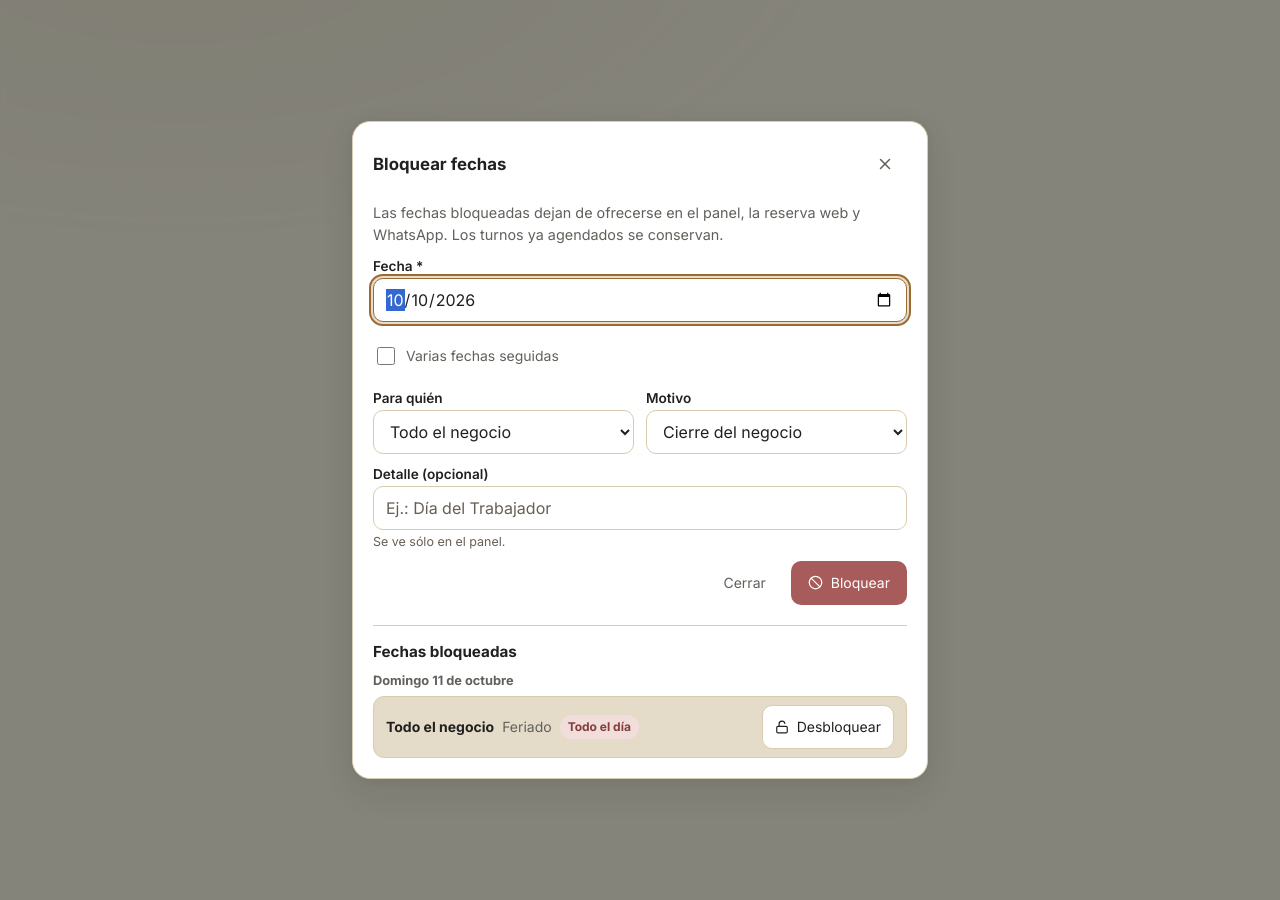
it: BloqueosModal › bloquea un rango y no duplica las fechas ya bloqueadas
The image size is (1280, 900).
Click the checkbox labelled "Varias fechas seguidas".
click(386, 356)  # box [377, 347, 395, 365]
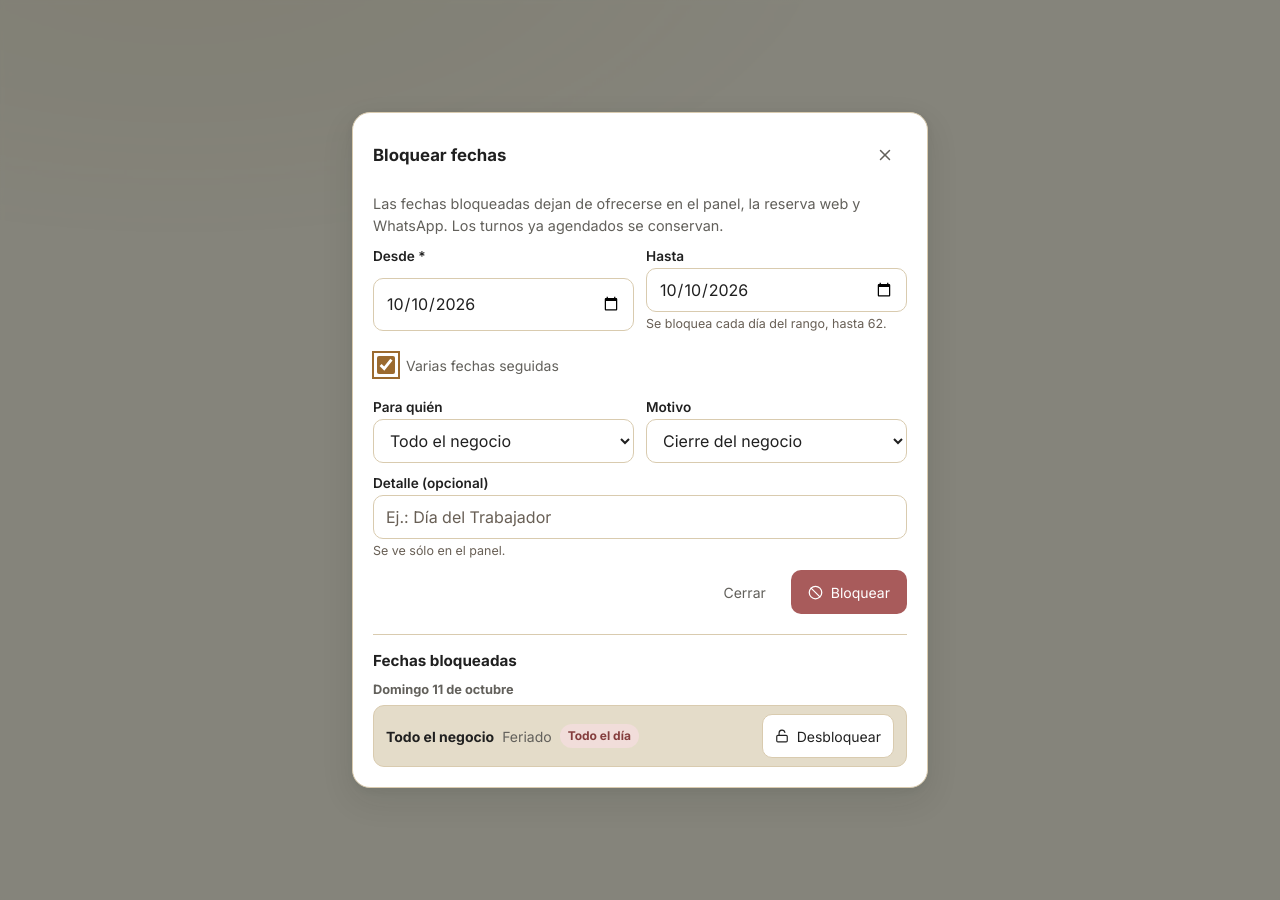
Type "2026-10-12" into the date field labelled "Hasta".
click(776, 290); type("2026-10-12")  # box [646, 268, 907, 312]
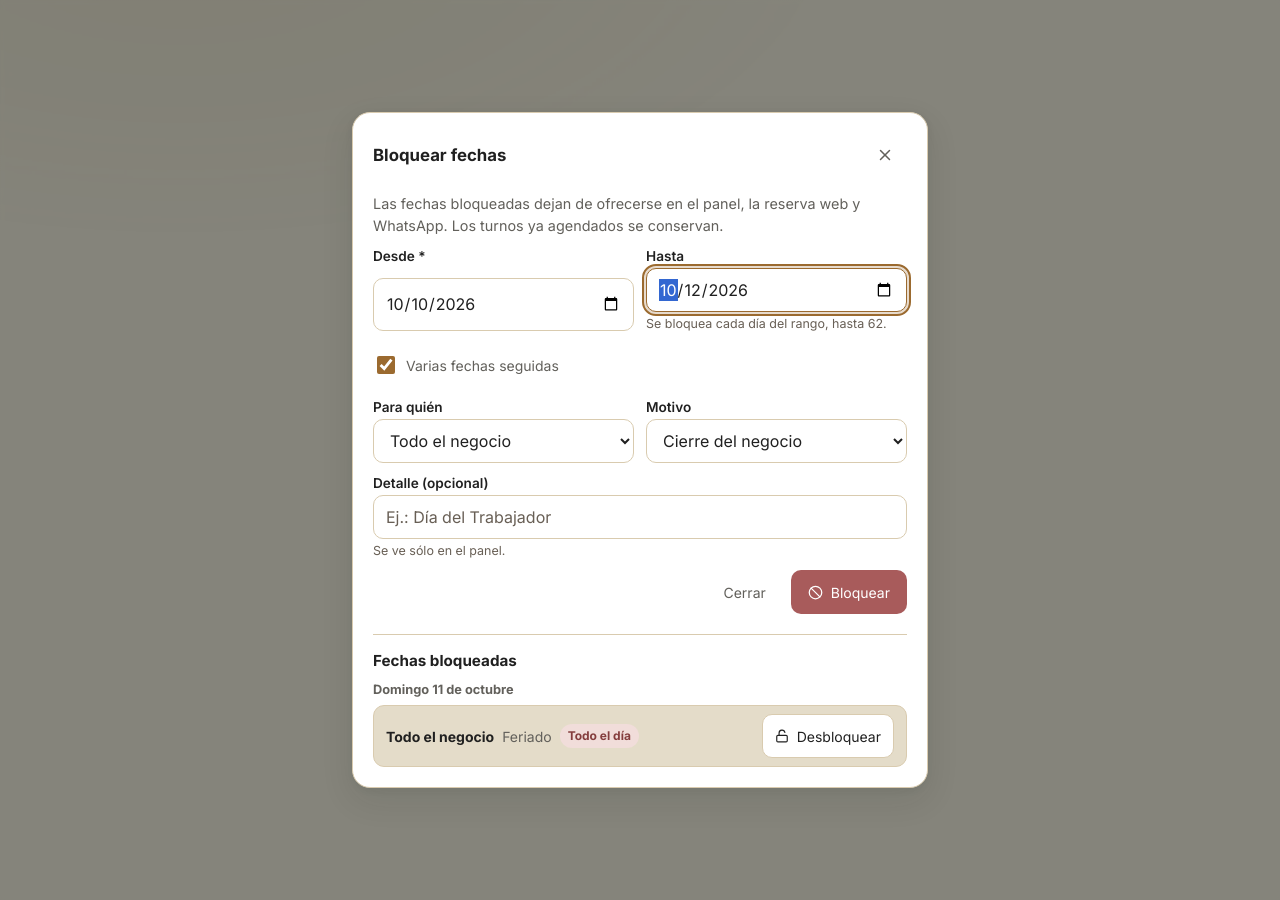
Click the button "Bloquear".
click(849, 592)  # box [791, 570, 907, 614]
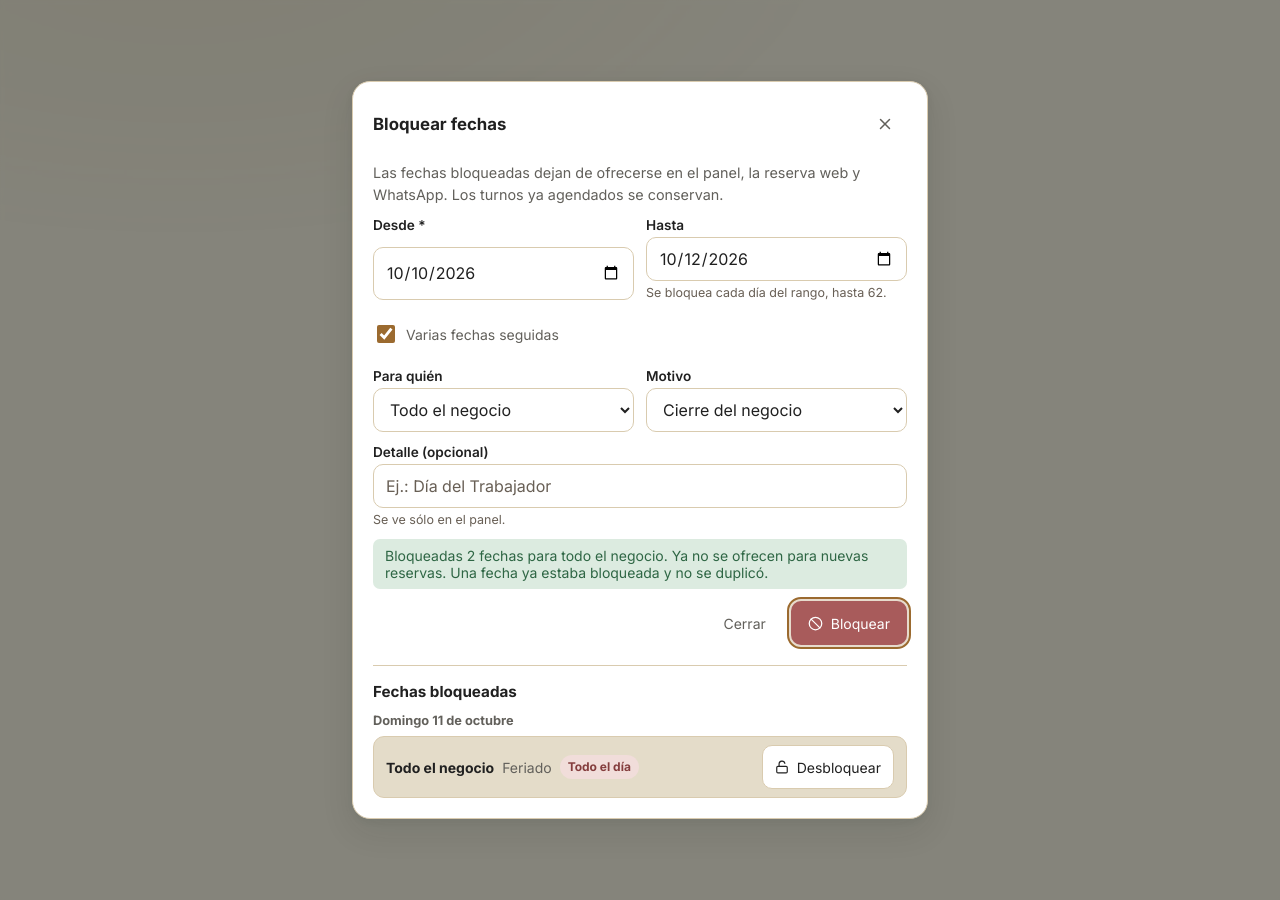
Now the text "Una fecha ya estaba bloqueada" is shown, box [385, 547, 868, 581]
